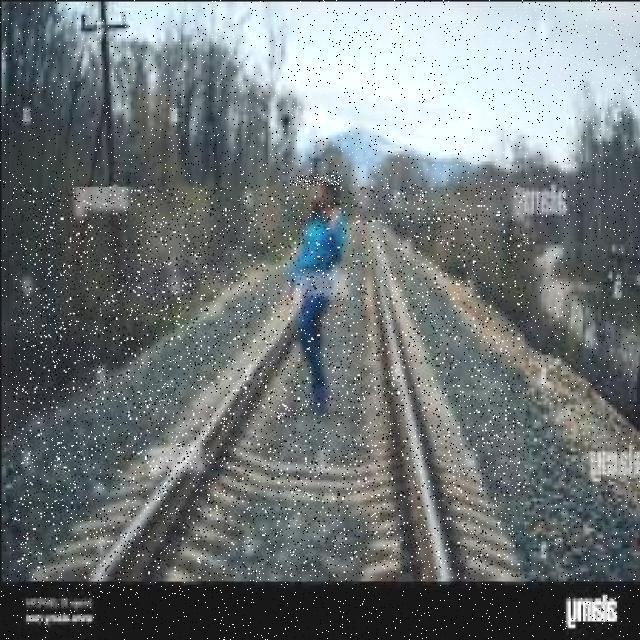danger: (290, 175, 342, 428)
rail: (14, 187, 521, 576)
